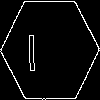I: (25, 25, 38, 72)
